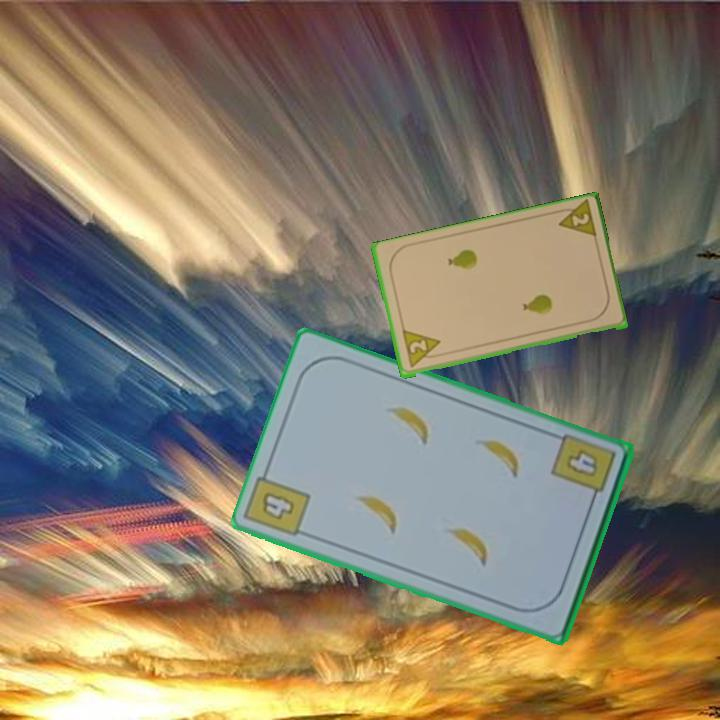2p: (551, 198, 599, 242), (399, 327, 445, 371)
4b: (548, 434, 619, 508), (257, 488, 298, 523)
